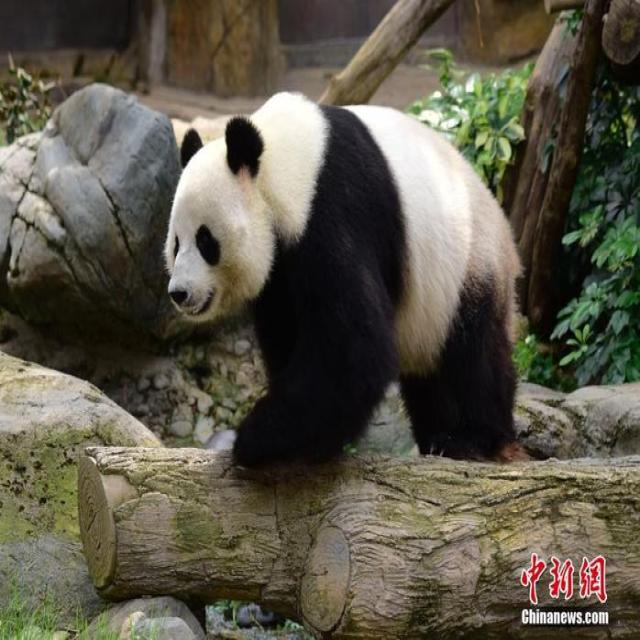panda: (127, 111, 621, 508)
